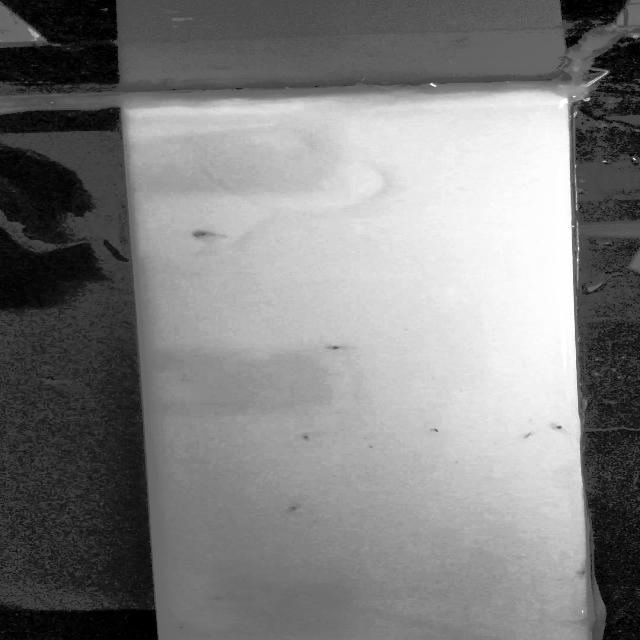shrimp: (181, 226, 229, 246), (316, 339, 354, 357), (546, 419, 578, 438), (198, 590, 234, 605), (283, 502, 309, 520), (416, 422, 447, 436), (165, 620, 194, 634), (288, 431, 320, 441)
